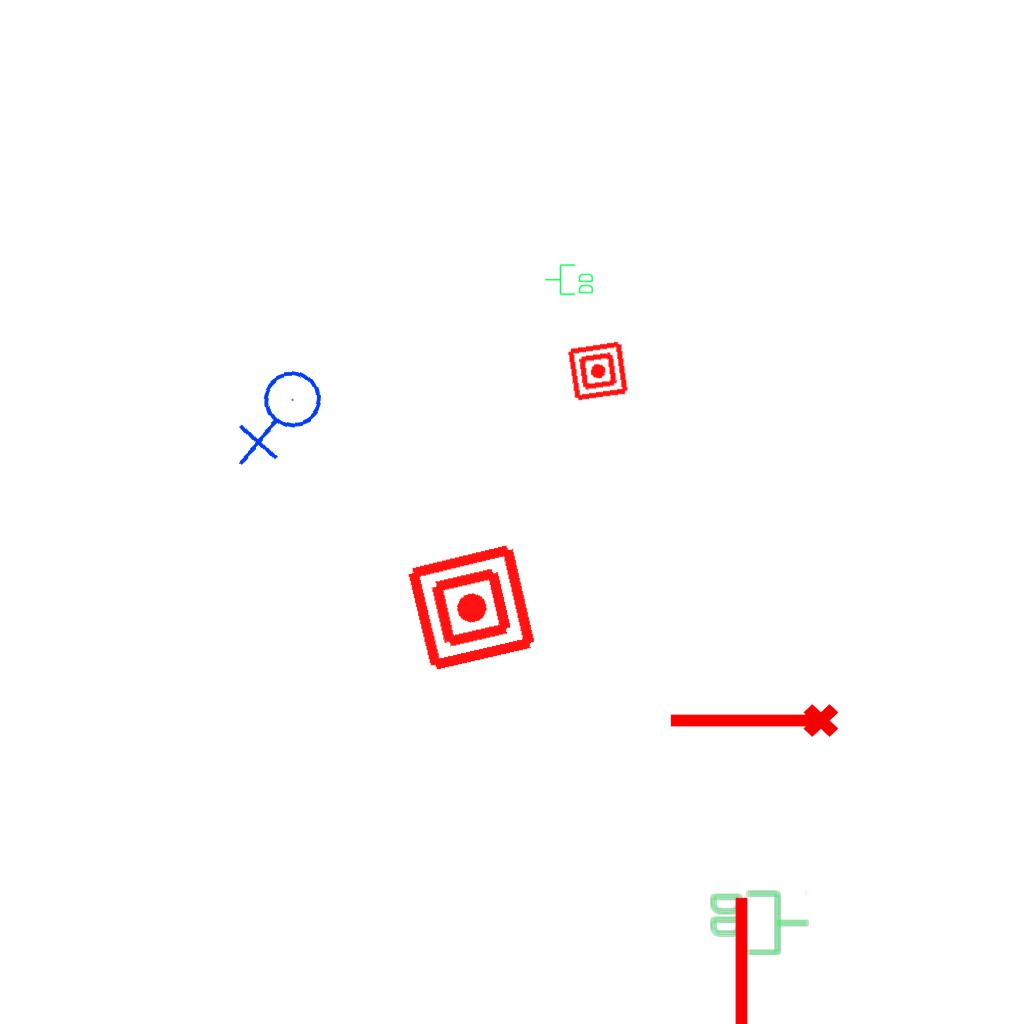ASR_Ansaugoeffnung: (665, 700, 841, 746), (716, 892, 762, 1024)
Datenanschluss_zweifach: (708, 888, 811, 957), (544, 263, 595, 297)
Elektroanschluss_allgemein_230V_Geraeteanschlussdose_230V: (227, 365, 338, 471)
NAM-Nichtautomatischer_Melder: (403, 539, 540, 676), (566, 339, 630, 403)
